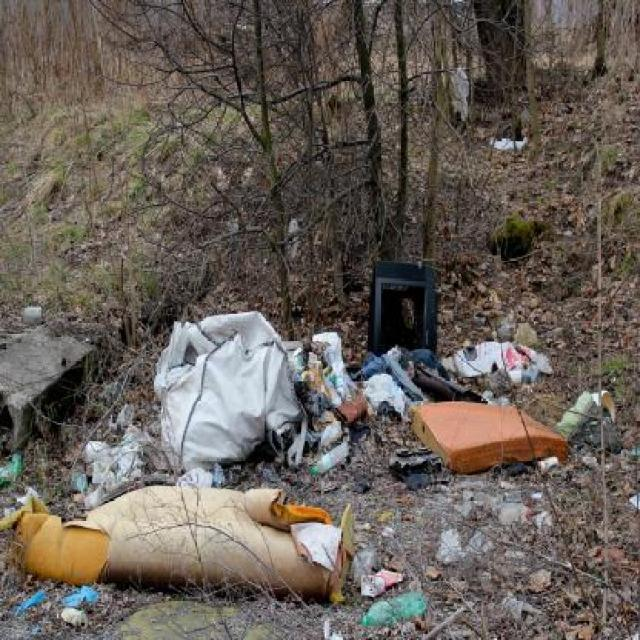garbage: (165, 248, 604, 516), (0, 374, 357, 618), (335, 457, 590, 640), (540, 73, 640, 379), (429, 54, 532, 177), (259, 191, 324, 286), (57, 594, 109, 640), (15, 301, 52, 344)
